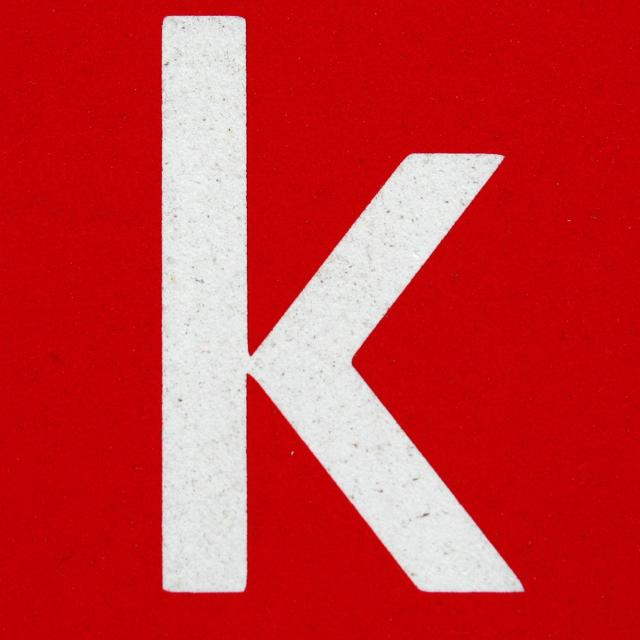K: (51, 6, 599, 614)
